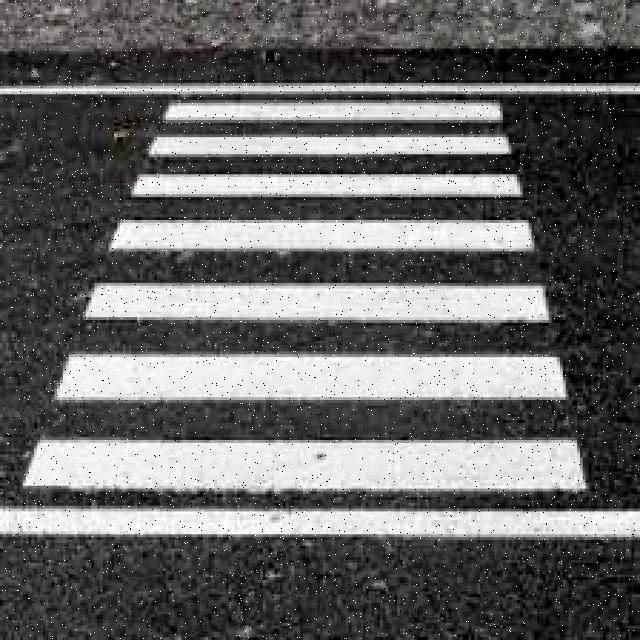crosswalk: (2, 78, 574, 530)
